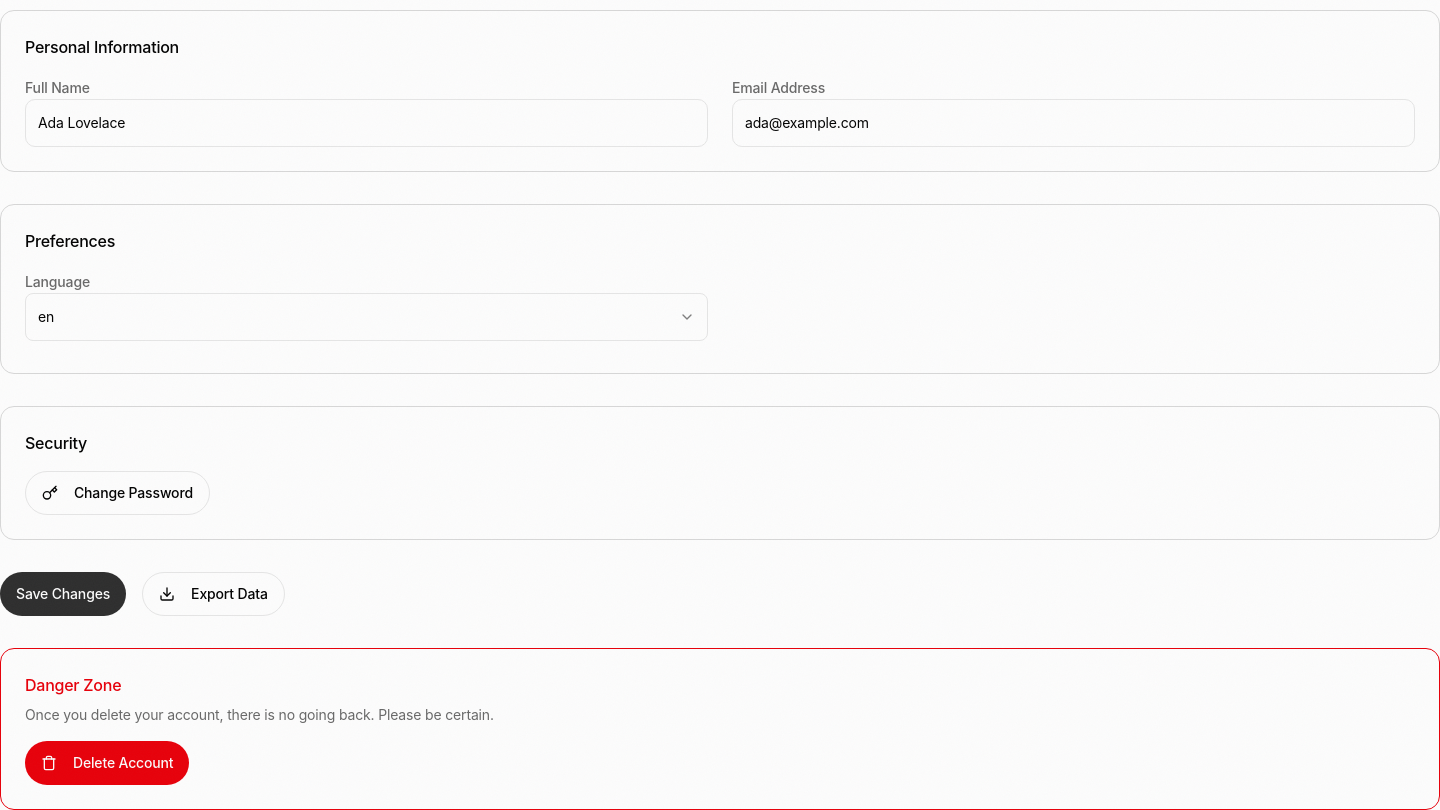
Scenario: ProfileTab (Avatar + AlertDialog migrated to Base UI) › opens the delete-account confirmation as a real alertdialog and fires the real deleteAccount action on confirm
Later steps or results of the test are not shown.
(page scrolled)
Click the button "Delete Account" at (107, 763), box 25,741 -> 190,785
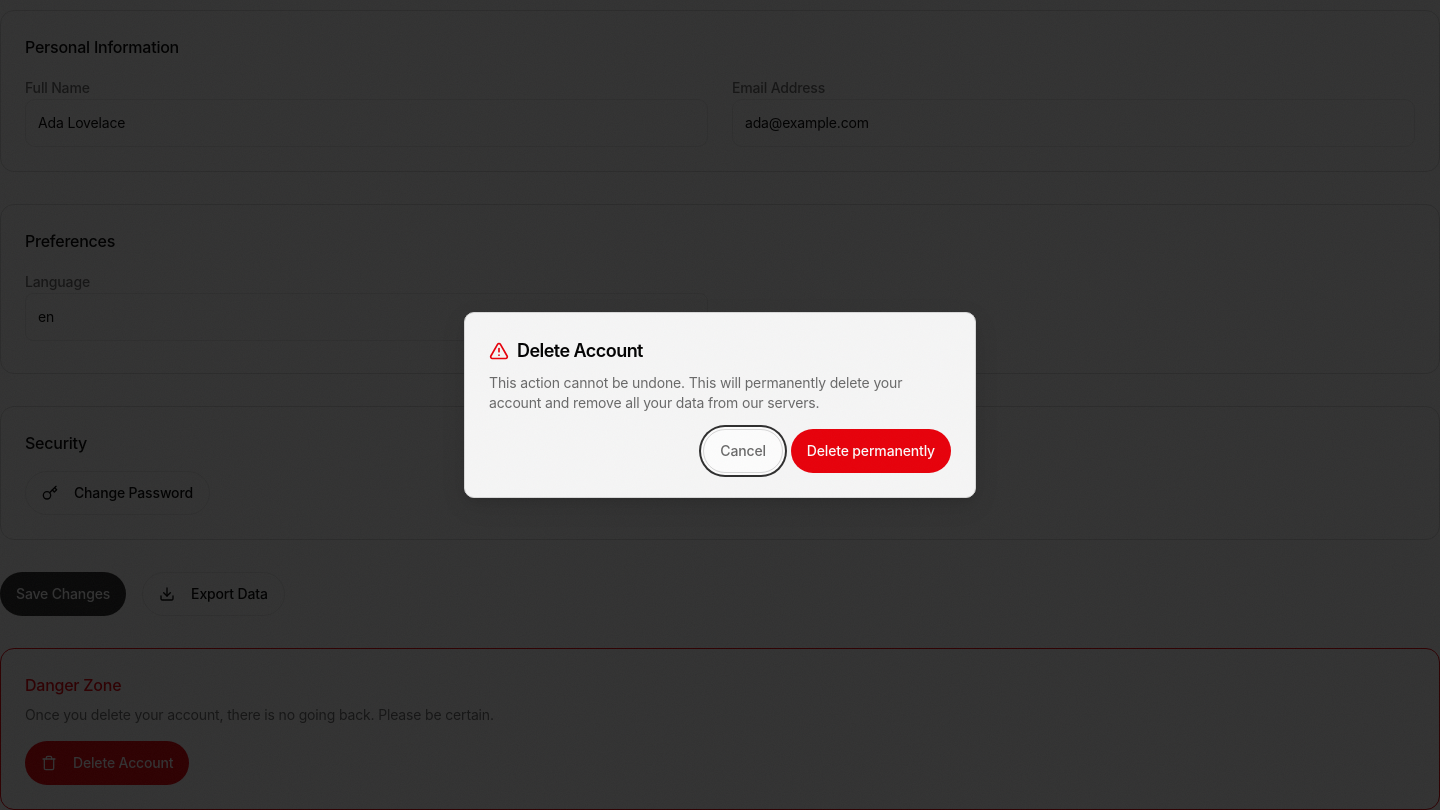
Result: the dialog is shown at 464,312 -> 976,498
